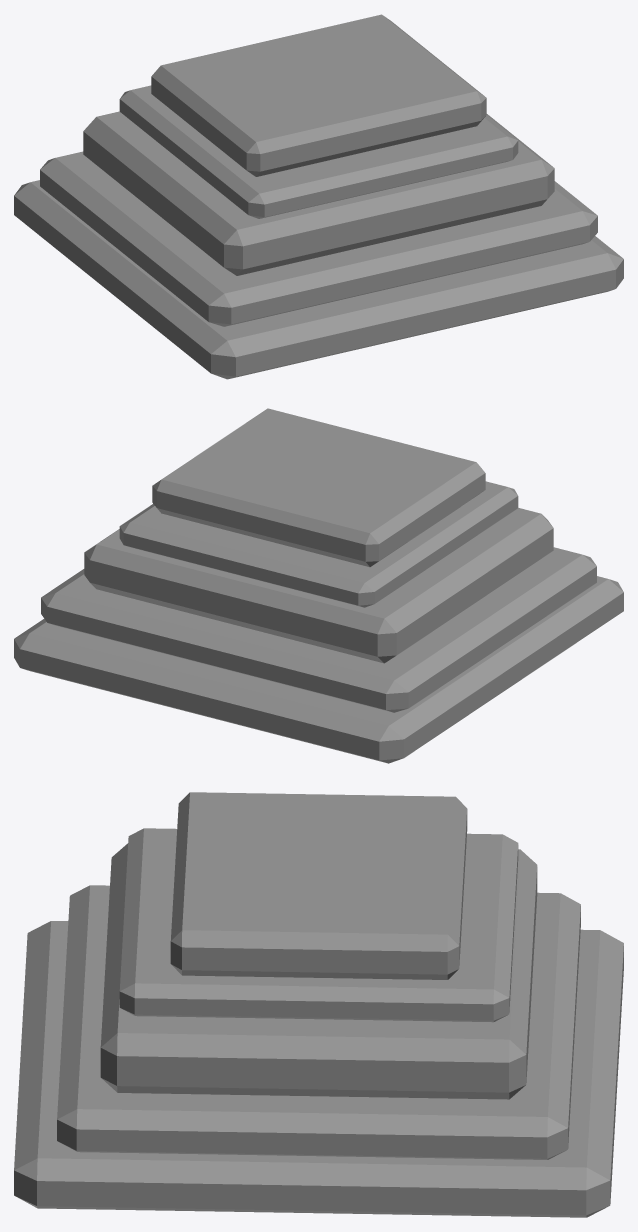
Rendered from Towels_2.fbx.
The picture shows the model from 3 angles, top to bottom: view 1: azimuth 30°, elevation 25°; view 2: azimuth 150°, elevation 25°; view 3: azimuth 270°, elevation 25°; orthographic projection. The views are drawn at different scales.
Parts seen in each view (by area): view 1: Towels_2; view 2: Towels_2; view 3: Towels_2.
Boxes of the visible parts, x1,y1,x2,y2 form: Towels_2: (14, 14, 623, 379); Towels_2: (14, 408, 623, 763); Towels_2: (14, 792, 623, 1217).
Size of the model in its own units: 40.41 by 39 by 16.3.
